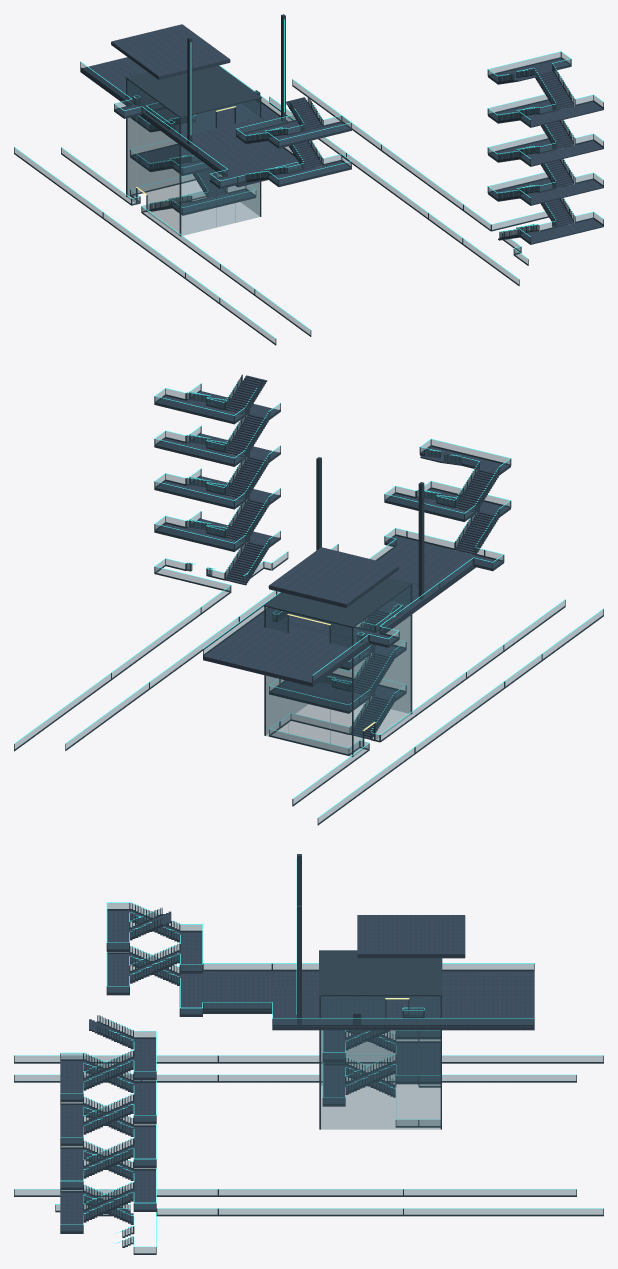
Rendered from v02-detailed-03-06.glb.
3 renders of one model, top to bottom at view 1: azimuth 30°, elevation 25°; view 2: azimuth 150°, elevation 25°; view 3: azimuth 270°, elevation 25°, orthographic. The views are drawn at different scales.
Visible parts, largest first — view 1: v02-detailed-03-06; view 2: v02-detailed-03-06; view 3: v02-detailed-03-06.
Part boxes in pixels (x1,y1,x2,y2): v02-detailed-03-06: (14, 14, 603, 345); v02-detailed-03-06: (14, 374, 603, 825); v02-detailed-03-06: (14, 854, 603, 1254).
Bounding box in the file's own units: 58.79 × 33.53 × 76.5.
5 materials, 1 textured.
